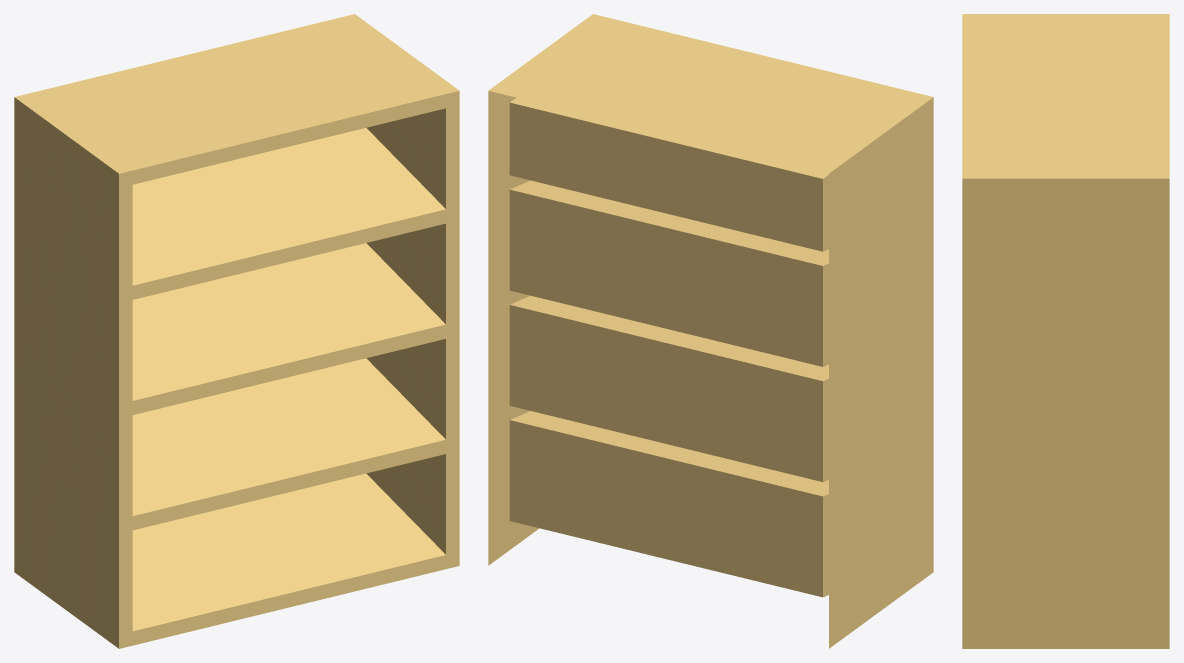
Rendered from SM_ShelfC.fbx.
The picture shows the model from 3 angles, left to right: view 1: azimuth 30°, elevation 25°; view 2: azimuth 150°, elevation 25°; view 3: azimuth 270°, elevation 25°; orthographic projection.
Parts seen in each view (by area): view 1: SM_ShelfC; view 2: SM_ShelfC; view 3: SM_ShelfC.
Boxes of the visible parts, left/top/right/bottom form: SM_ShelfC: left=14, top=14, right=459, bottom=648; SM_ShelfC: left=488, top=14, right=933, bottom=648; SM_ShelfC: left=962, top=14, right=1169, bottom=648.
Size of the model in its own units: 1.5 by 2 by 0.8.
